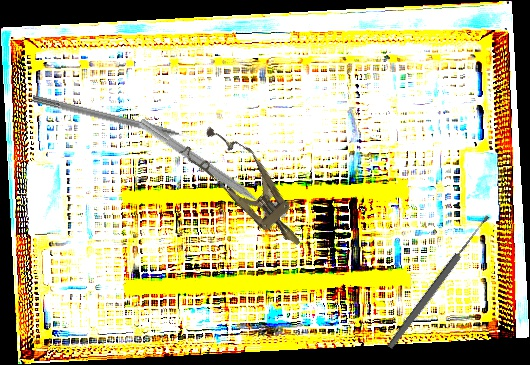Fixation Ring: (129, 114, 290, 234)
Hook Surgical: (31, 94, 202, 146)
Speculum: (178, 115, 320, 263)
Surgical Spoon: (385, 213, 493, 351)
